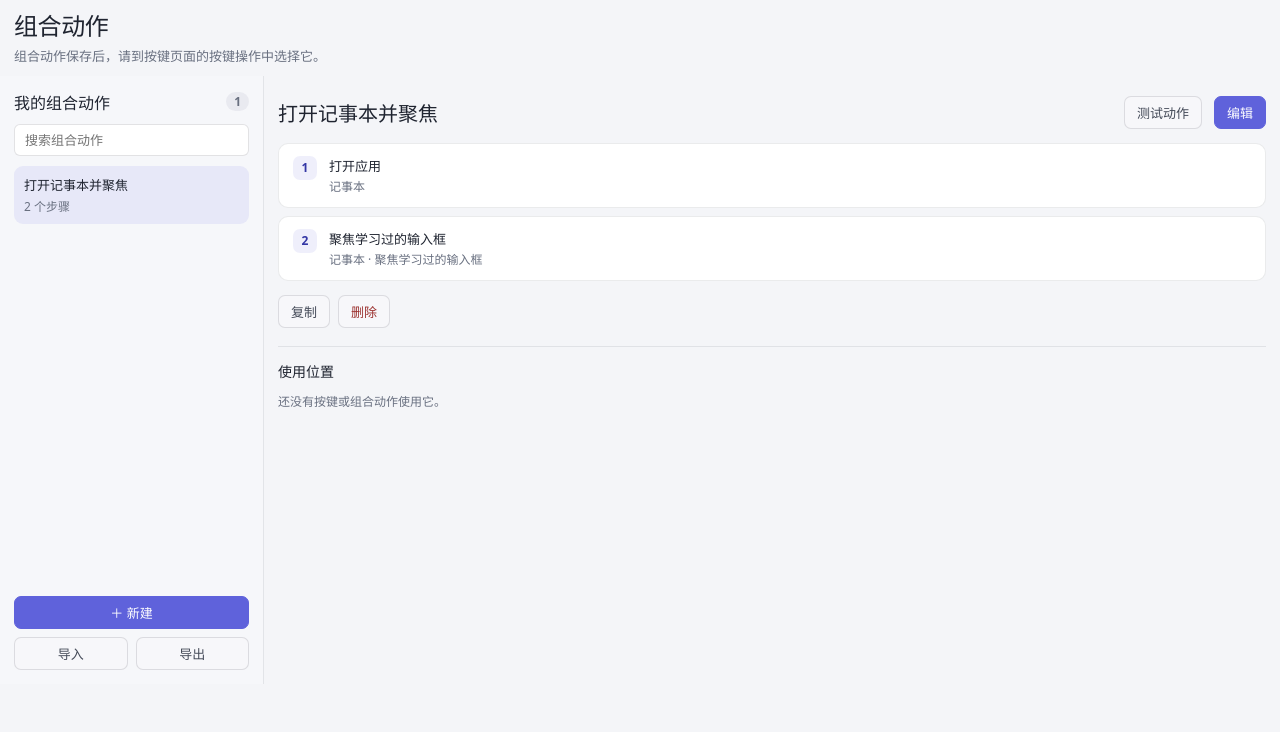
组合动作页 · 库浏览 › 测试动作按最新版本执行并轮询终态文案
Click the button "测试动作": (1163, 112) [1124, 96, 1202, 129]
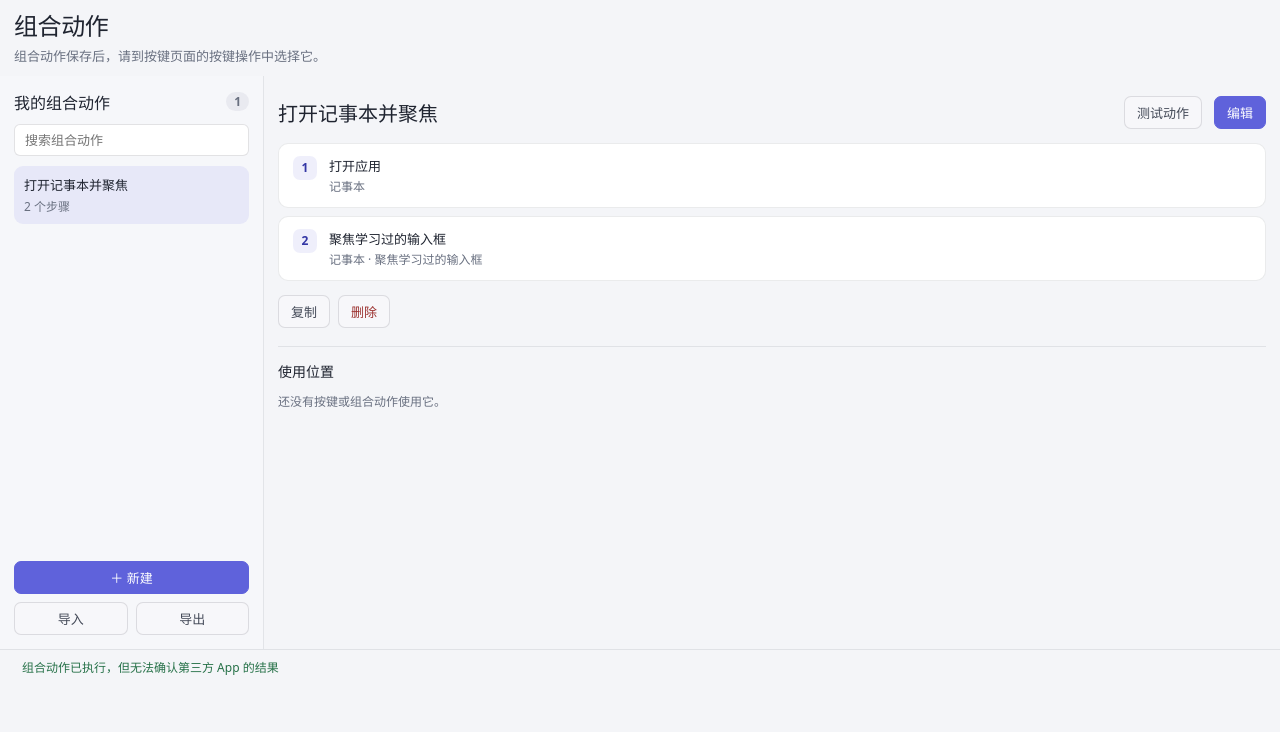
Expected: the text "组合动作已执行，但无法确认第三方 App 的结果" is shown, [0, 649, 1279, 684]
